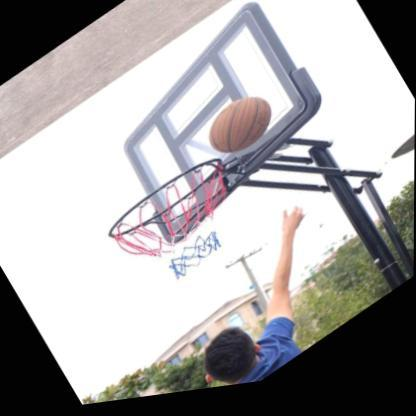basketball: (200, 89, 280, 171)
rim: (102, 149, 259, 309)
